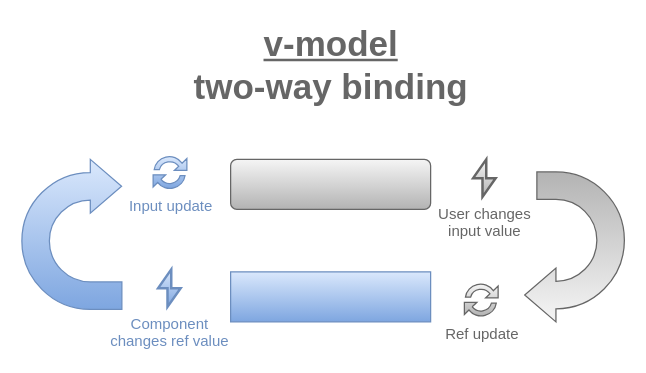
Image size: 646x373. Some labels were removed from this diagram. The centre of each missing label's shape, as x and y in pixels:
"Input..." belongs at point 330,183.
"myRef" belongs at point 330,296.
